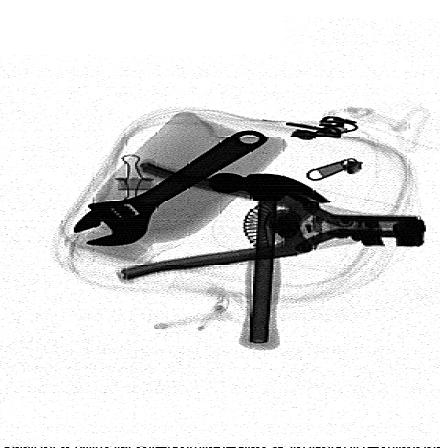Hammer: (208, 173, 328, 351)
Pliers: (114, 159, 429, 287)
Wrench: (69, 130, 270, 249)
